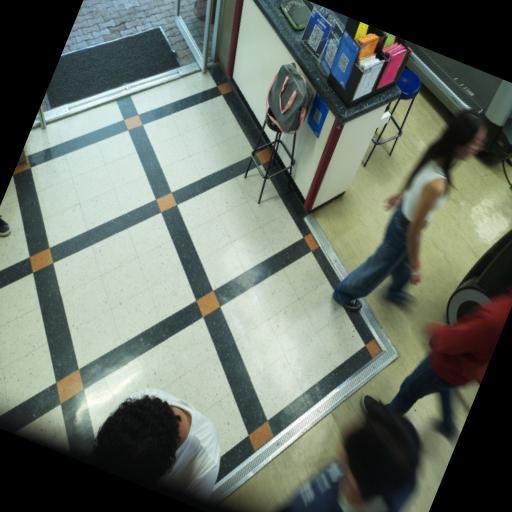person: (333, 111, 487, 311), (387, 288, 511, 439), (282, 404, 419, 511), (91, 389, 220, 501), (0, 216, 11, 237)
